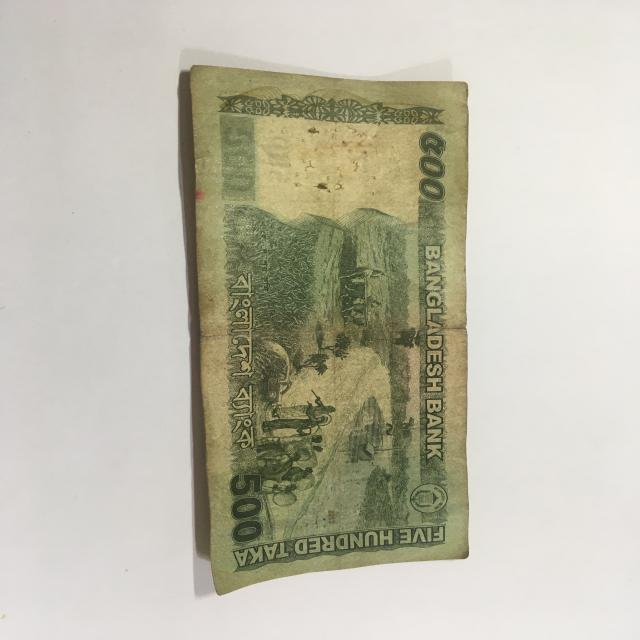Taka: (184, 61, 477, 598)
